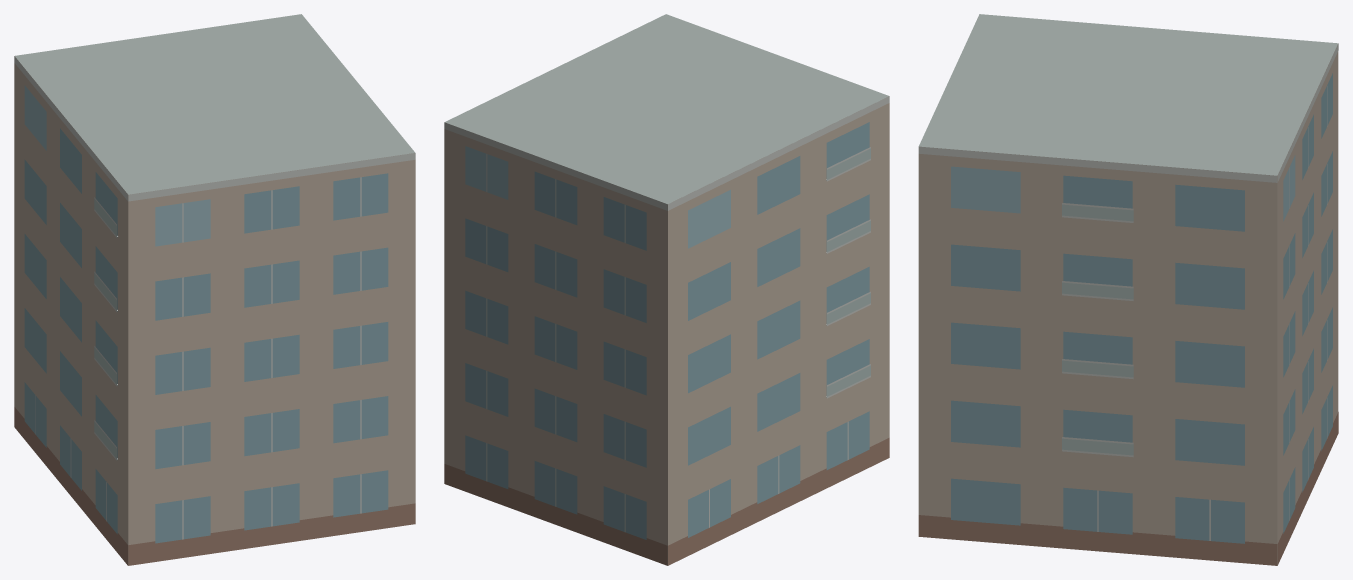
File: survey-upis-32821905.glb
The picture shows the model from 3 angles, left to right: view 1: azimuth 30°, elevation 25°; view 2: azimuth 150°, elevation 25°; view 3: azimuth 270°, elevation 25°; orthographic projection. The views are drawn at different scales.
Parts seen in each view (by area): view 1: survey-upis-32821905.tmp; view 2: survey-upis-32821905.tmp; view 3: survey-upis-32821905.tmp.
Part boxes in pixels (left/top/right/bottom): survey-upis-32821905.tmp: left=14, top=14, right=415, bottom=565; survey-upis-32821905.tmp: left=444, top=14, right=889, bottom=565; survey-upis-32821905.tmp: left=918, top=14, right=1338, bottom=565.
Bounding box in the file's own units: 11.74 × 13.2 × 12.88.
